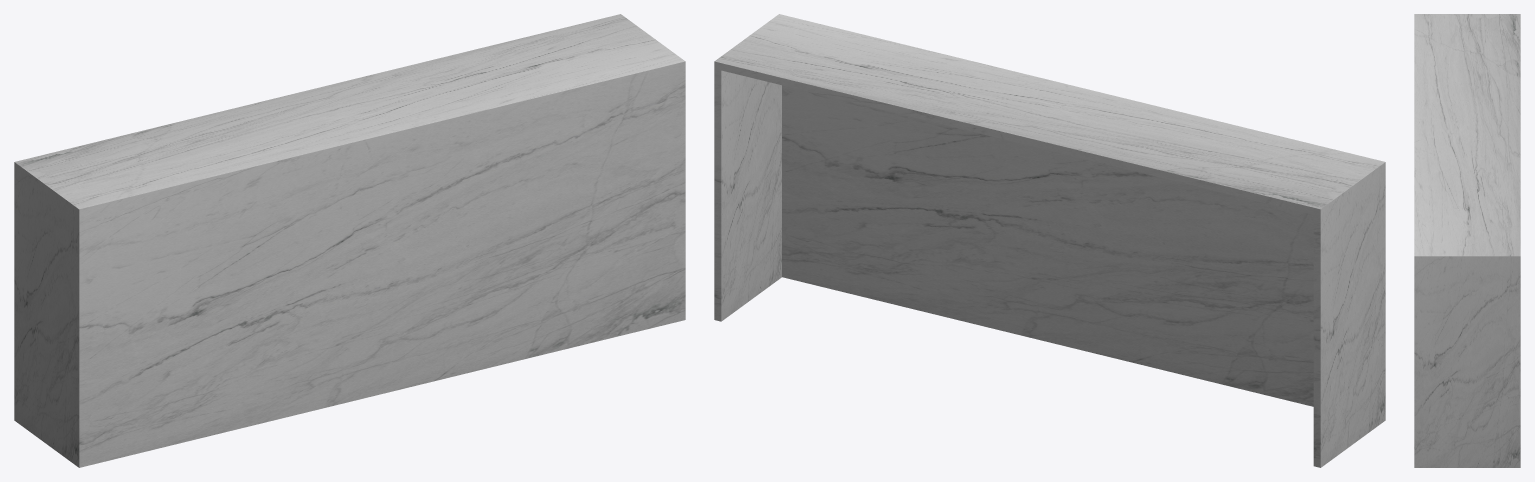
The model's file is marble-counter.glb.
3 renders of one model, left to right at view 1: azimuth 30°, elevation 25°; view 2: azimuth 150°, elevation 25°; view 3: azimuth 270°, elevation 25°, orthographic. The views are drawn at different scales.
Parts seen in each view (by area): view 1: Object_9_/Marble_C_150cm_0; view 2: Object_9_/Marble_C_150cm_0; view 3: Object_9_/Marble_C_150cm_0.
Boxes of the visible parts, x1,y1,x2,y2 form: Object_9_/Marble_C_150cm_0: [14, 14, 685, 467]; Object_9_/Marble_C_150cm_0: [714, 14, 1385, 467]; Object_9_/Marble_C_150cm_0: [1414, 14, 1520, 467].
Bounding box in the file's own units: 108 × 44 × 20.
Materials: 1 (1 with a texture image).
